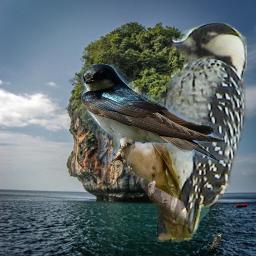Cuckoo: (95, 102, 192, 242), (208, 233, 222, 250)
Swallow: (81, 64, 226, 169)
Woodpecker: (157, 21, 247, 242)
